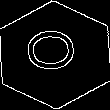O_E: (26, 32, 84, 78)
